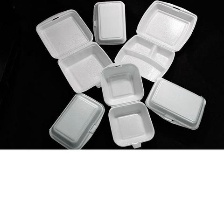foam_box: (30, 6, 116, 96), (110, 0, 200, 84), (96, 59, 158, 149), (142, 74, 208, 133), (44, 88, 107, 149), (89, 0, 128, 47)
